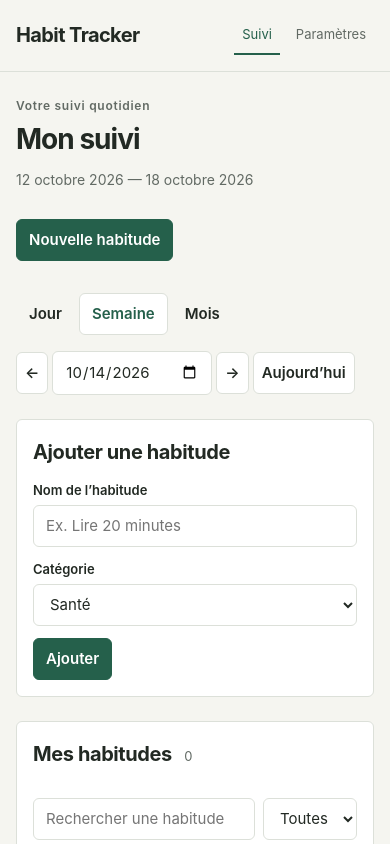
it: reports persistence failures without adding an unsaved habit
In the field labelled "Nom de l’habitude": (195, 526) [33, 505, 357, 547], type "Marcher"
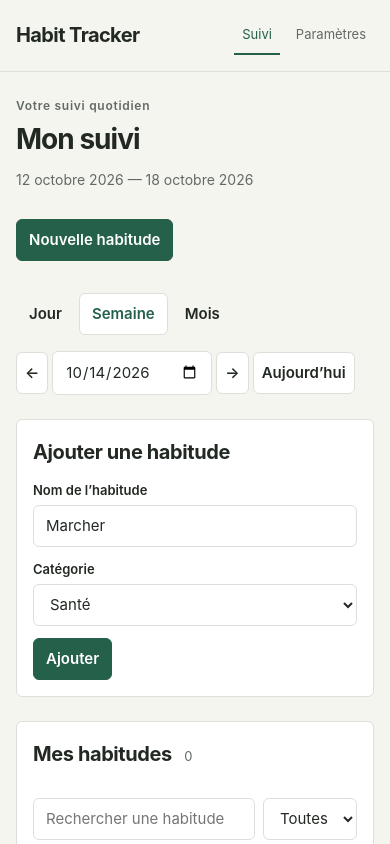
Click the button "Ajouter": (73, 659) [33, 638, 112, 680]
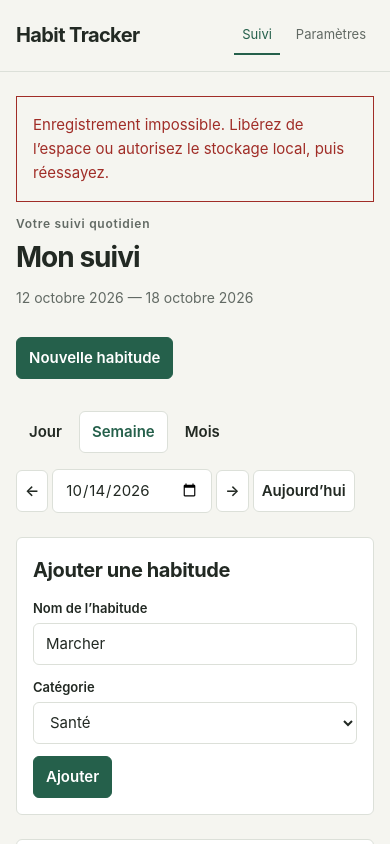
Expected: the message shows "Enregistrement impossible", [33, 115, 344, 182]
